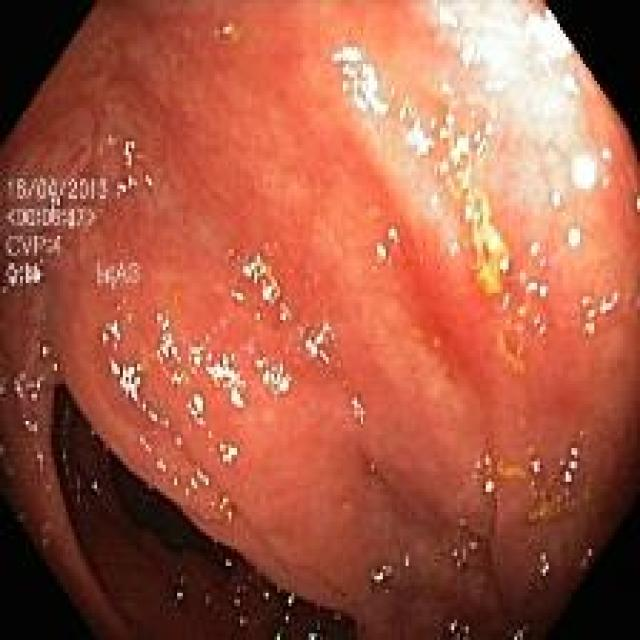ulcerative-colitis-grade-1: (4, 3, 639, 637)
